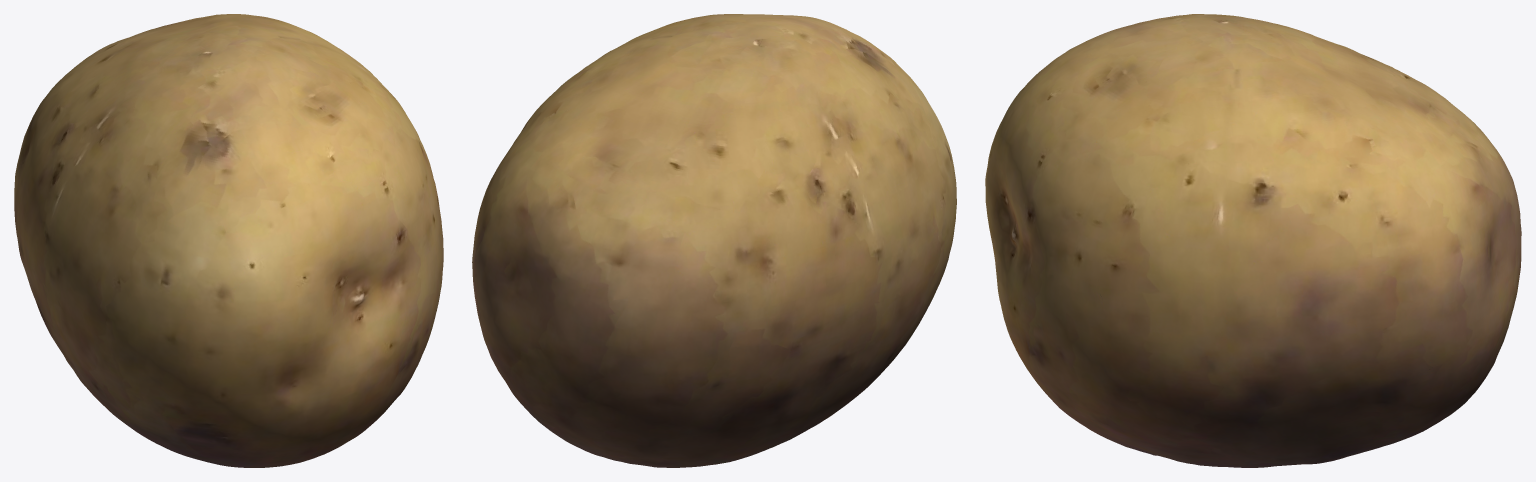
Rendered from Kartoffel_low.fbx.
3 renders of one model, left to right at view 1: azimuth 30°, elevation 25°; view 2: azimuth 150°, elevation 25°; view 3: azimuth 270°, elevation 25°, orthographic. The views are drawn at different scales.
Visible parts, largest first — view 1: Kartoffel_low_tex; view 2: Kartoffel_low_tex; view 3: Kartoffel_low_tex.
Boxes of the visible parts, box(x1,y1,x2,y2) form: Kartoffel_low_tex: box(14, 14, 443, 467); Kartoffel_low_tex: box(472, 14, 956, 467); Kartoffel_low_tex: box(985, 14, 1521, 467).
Size of the model in its own units: 4.85 by 5.11 by 6.1.
Materials: 1 (1 with a texture image).
